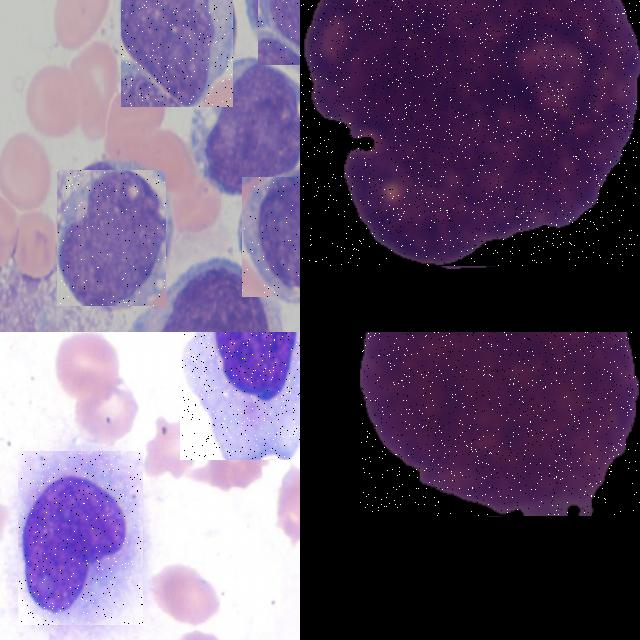ALL Negative Cells: (360, 332, 640, 516)
ALL Positive Cell: (300, 0, 640, 266), (18, 451, 143, 625), (179, 332, 300, 460), (57, 170, 166, 306), (120, 0, 233, 106), (242, 176, 300, 297)
